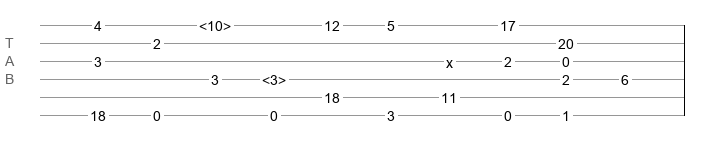0: (153, 108, 161, 118), (270, 108, 278, 118), (504, 108, 512, 118), (562, 54, 570, 64)
1: (562, 108, 570, 118)
11: (441, 90, 457, 100)
12: (324, 18, 340, 28)
17: (500, 18, 516, 28)
18: (90, 108, 106, 118), (324, 90, 340, 100)
2: (153, 36, 161, 46), (504, 54, 512, 64), (562, 72, 570, 82)
20: (558, 36, 574, 46)
3: (94, 54, 102, 64), (211, 72, 219, 82), (387, 108, 395, 118)
4: (94, 18, 102, 28)
5: (387, 18, 395, 28)
6: (621, 72, 629, 82)
harmonic: (199, 18, 231, 28), (262, 72, 286, 82)
x: (446, 55, 453, 63)
